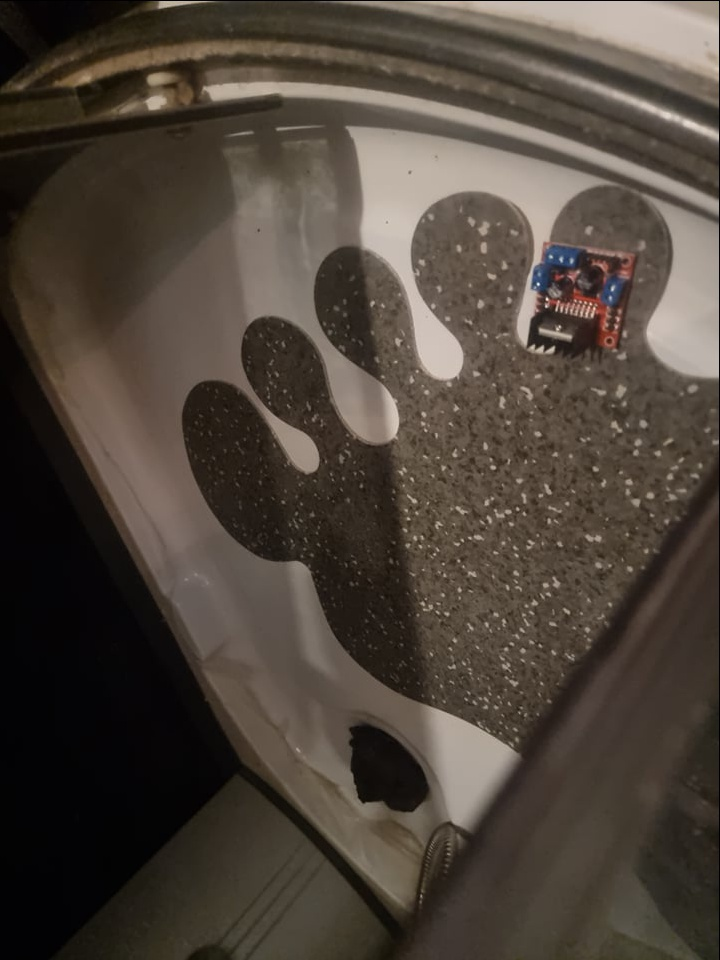MOTOR: (527, 237, 641, 357)
